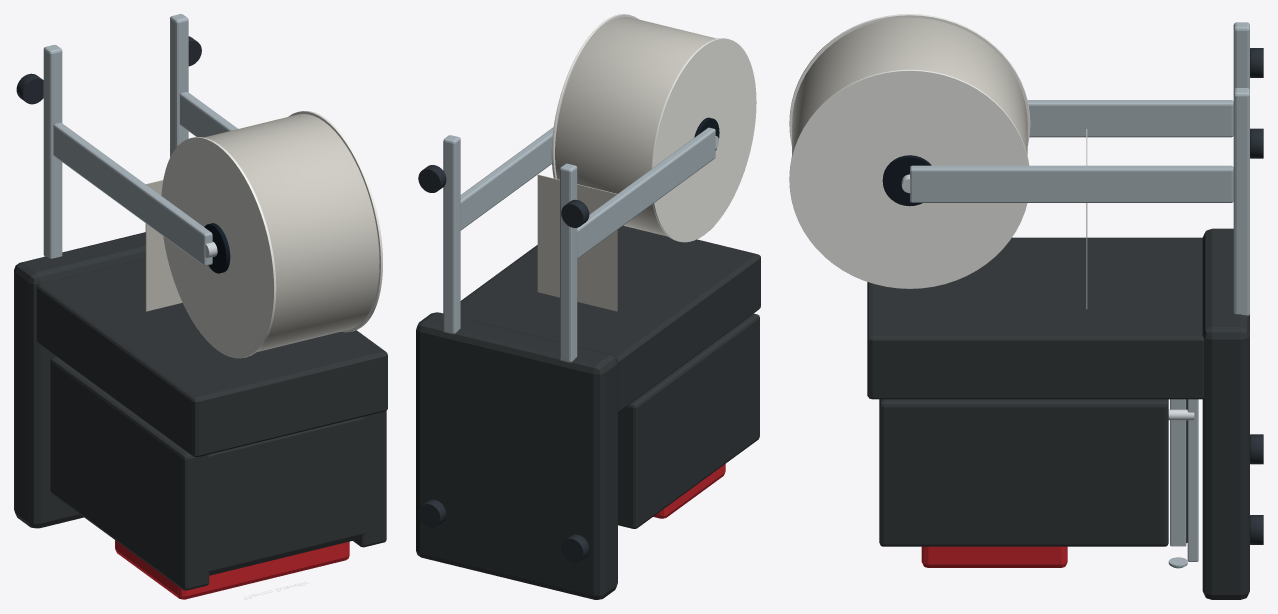
Rendered from thermo_alps3000.glb.
The picture shows the model from 3 angles, left to right: view 1: azimuth 30°, elevation 25°; view 2: azimuth 150°, elevation 25°; view 3: azimuth 270°, elevation 25°; orthographic projection. The views are drawn at different scales.
Parts seen in each view (by area): view 1: Upper_shroud, Foil_feed_web, Supply_flange, Button_bezel, Accent_front_fascia, Film_feed_roller, Cooling_slots 1; view 2: Upper_shroud, Foil_feed_web, Button_bezel, Supply_flange, Film_feed_roller, Accent_front_fascia; view 3: Upper_shroud, Supply_flange, Button_bezel, Foil_feed_web, Accent_front_fascia, Film_feed_roller, Cooling_slots 1.
Boxes of the visible parts, box(x1,y1,x2,y2) form: Upper_shroud: box(14, 232, 387, 590); Foil_feed_web: box(145, 114, 379, 352); Supply_flange: box(161, 111, 382, 358); Button_bezel: box(43, 14, 237, 265); Accent_front_fascia: box(115, 540, 349, 599); Film_feed_roller: box(16, 36, 201, 104); Cooling_slots 1: box(204, 223, 230, 273); Upper_shroud: box(416, 225, 760, 599); Foil_feed_web: box(537, 17, 716, 311); Button_bezel: box(443, 127, 715, 362); Supply_flange: box(551, 14, 756, 242); Film_feed_roller: box(418, 165, 589, 562); Accent_front_fascia: box(653, 464, 725, 518); Upper_shroud: box(867, 228, 1249, 599); Supply_flange: box(789, 14, 1030, 288); Button_bezel: box(910, 22, 1249, 567); Foil_feed_web: box(792, 17, 1087, 309); Accent_front_fascia: box(921, 546, 1067, 567); Film_feed_roller: box(1250, 48, 1263, 544); Cooling_slots 1: box(882, 155, 1187, 542).
Bounding box in the file's own units: 0.185 × 0.414 × 0.35.
